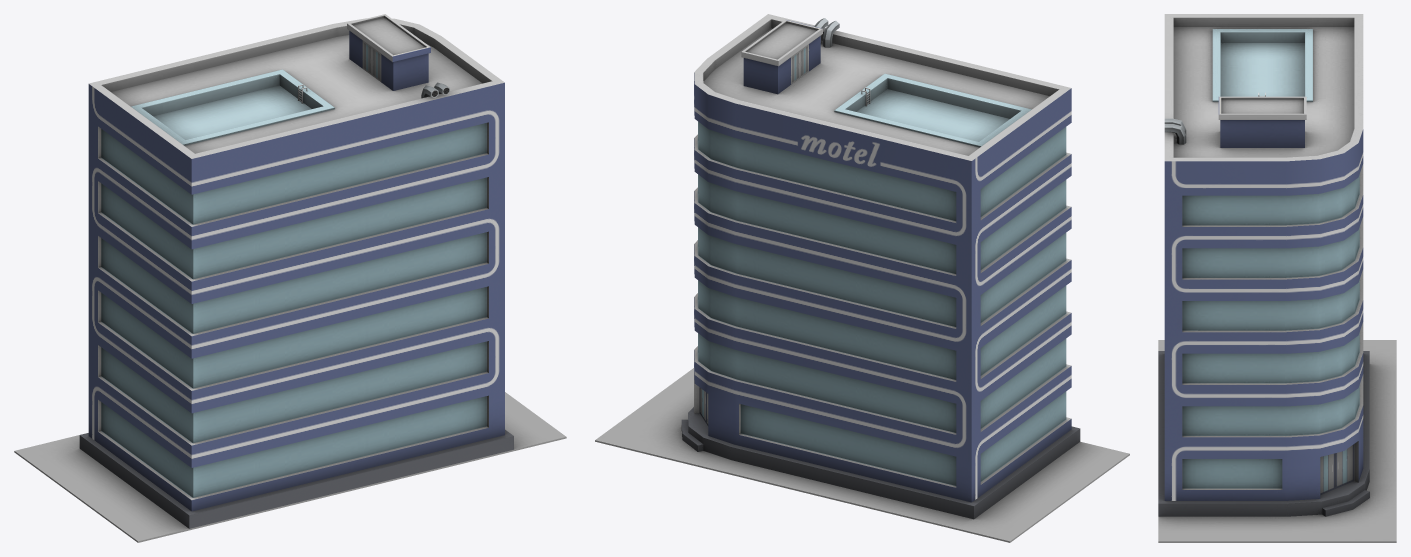
The model's file is HOS0610005.fbx.
3 views of the same model, side by side, from view 1: azimuth 30°, elevation 25°; view 2: azimuth 150°, elevation 25°; view 3: azimuth 270°, elevation 25° (orthographic). The views are drawn at different scales.
Parts seen in each view (by area): view 1: smHOS0610005; view 2: smHOS0610005; view 3: smHOS0610005.
Part boxes in pixels (x1,y1,x2,y2): smHOS0610005: (14, 14, 566, 542); smHOS0610005: (595, 14, 1129, 542); smHOS0610005: (1158, 14, 1396, 542).
Size of what is drawn, in the model's own units: 2842 by 2495 by 1421.
1 material, 1 textured.
